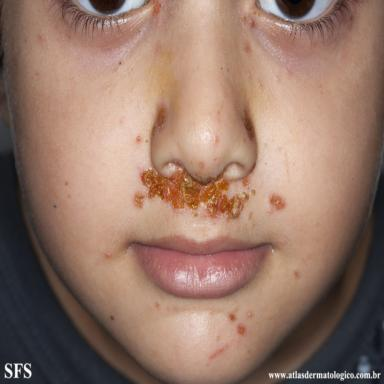Impetigo: (132, 159, 257, 223), (150, 104, 168, 146), (266, 193, 286, 214), (243, 110, 255, 141), (248, 163, 257, 178), (238, 325, 245, 335), (229, 314, 235, 321), (136, 136, 141, 142)
